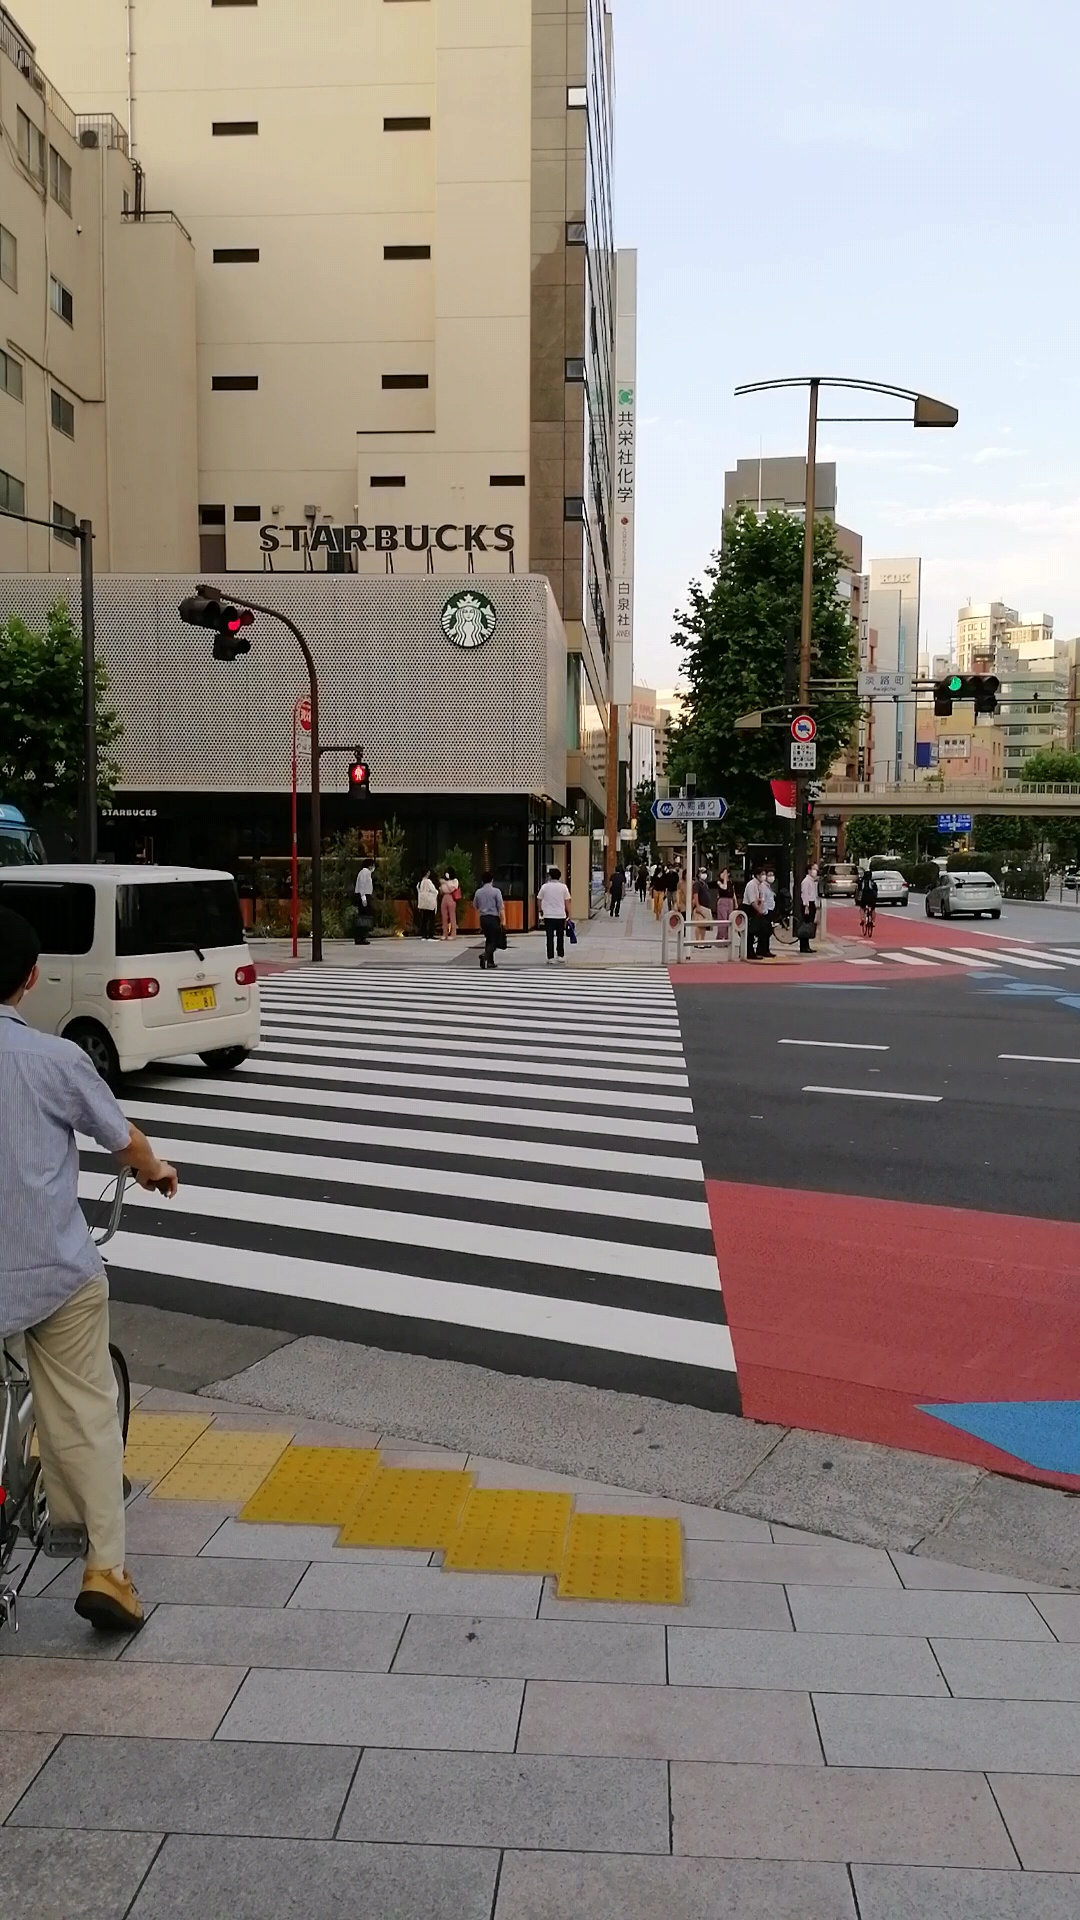red: (345, 760, 369, 806)
